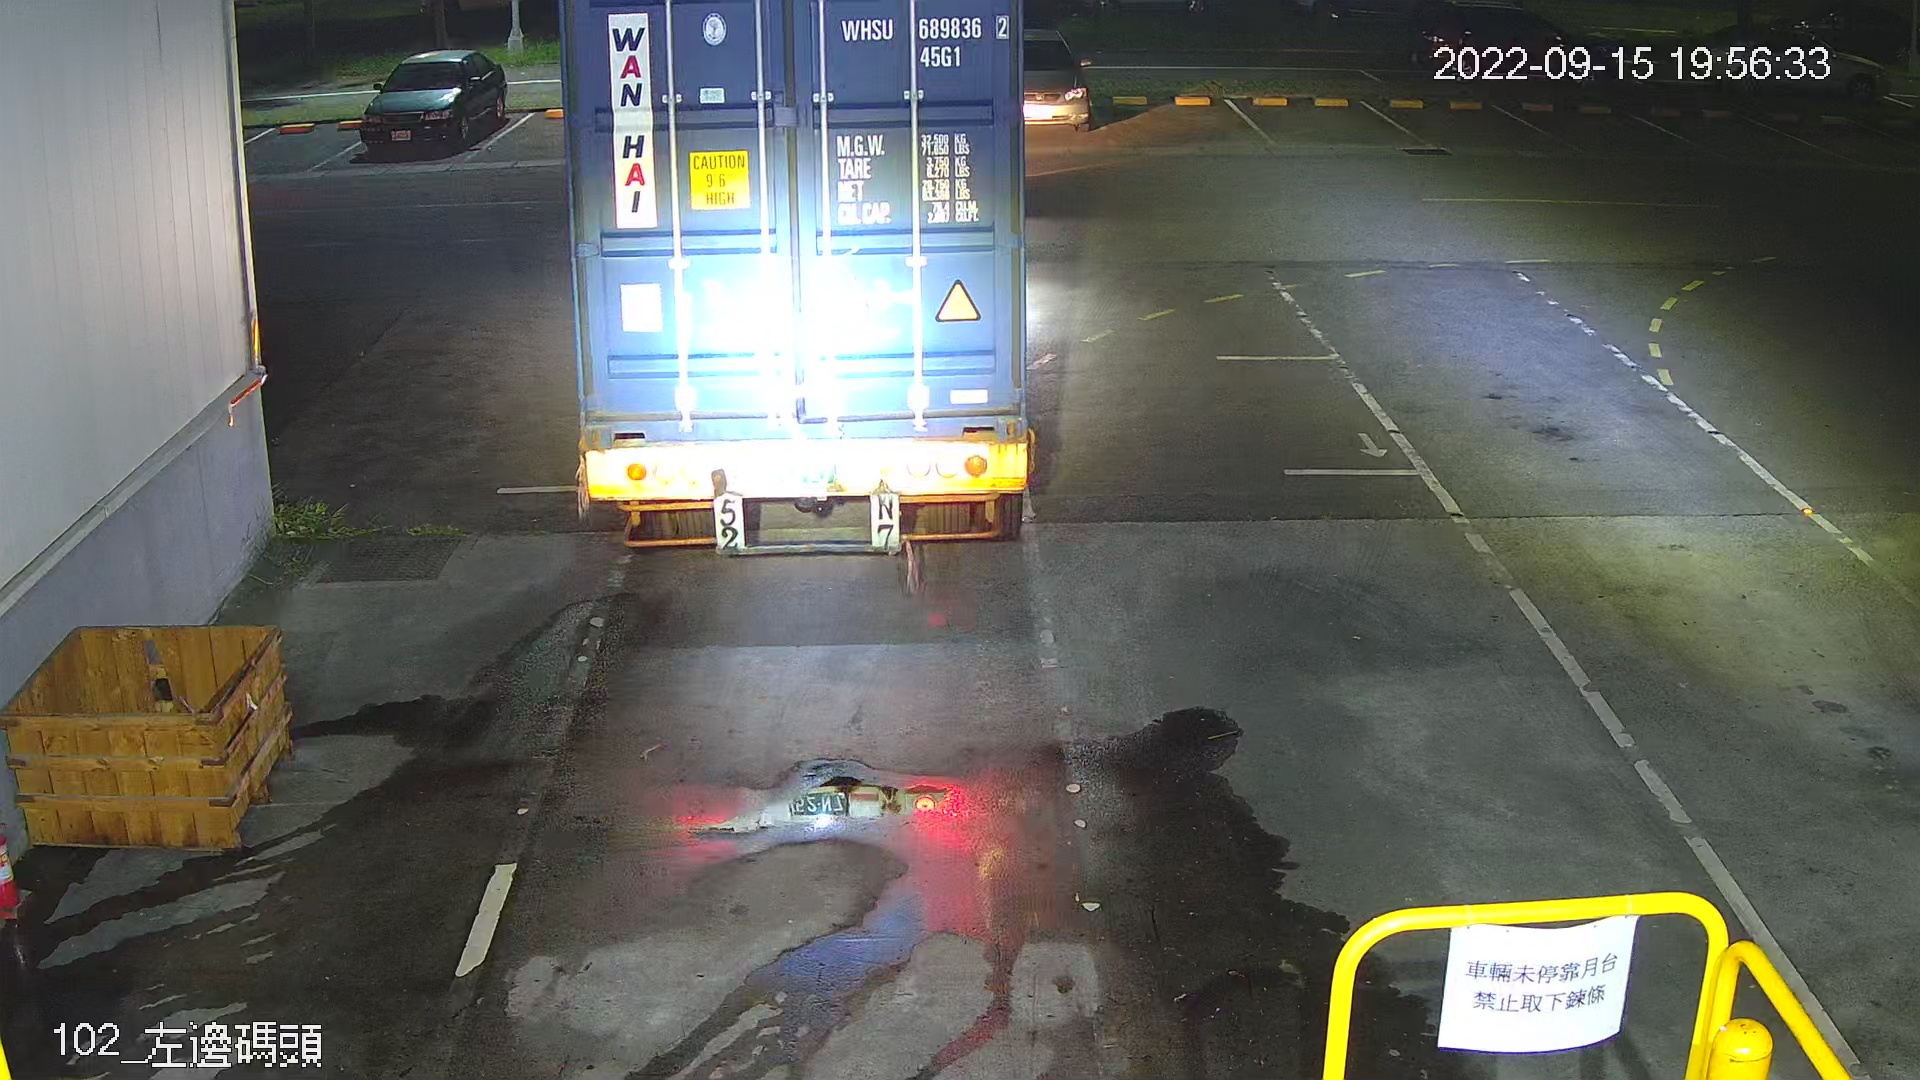container: (831, 4, 1014, 76)
